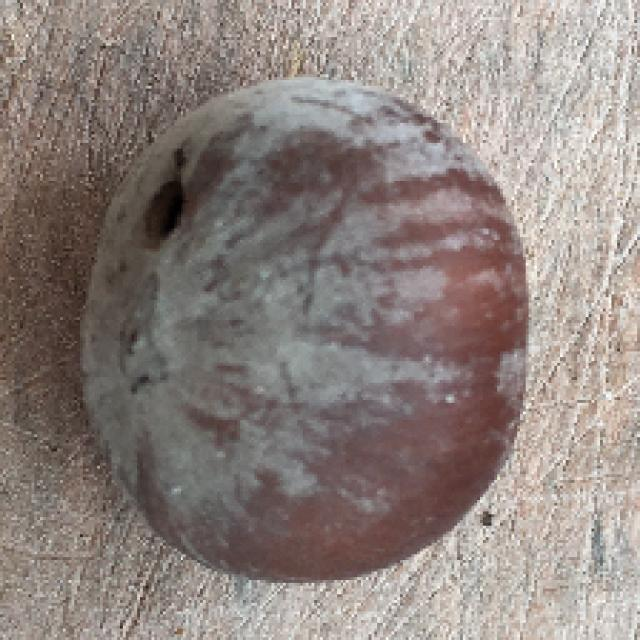DamagedHazelnut: (79, 79, 532, 575)
